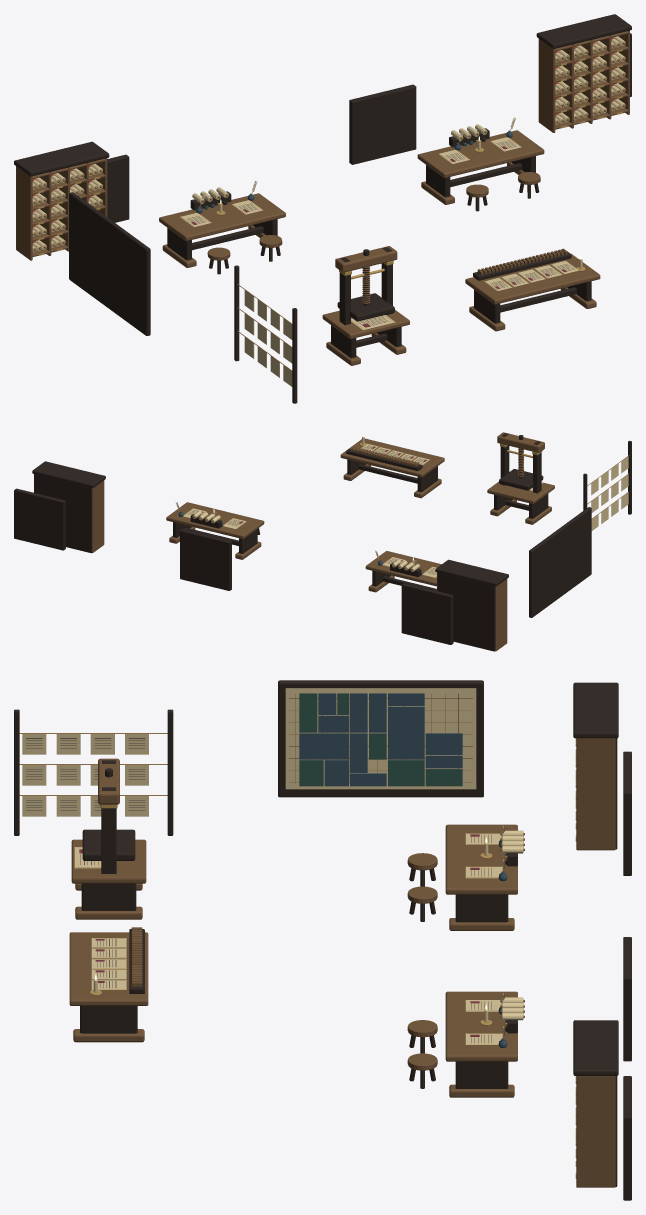
Rendered from scriptorium.glb.
3 views of the same model, one above another, from view 1: azimuth 30°, elevation 25°; view 2: azimuth 150°, elevation 25°; view 3: azimuth 270°, elevation 25° (orthographic). The views are drawn at different scales.
Parts seen in each view (by area): view 1: Crafted assembly 001, Crafted assembly 000, Crafted assembly 011, Crafted assembly 010, Crafted assembly 022, Crafted assembly 002, Crafted assembly 023, Crafted assembly 012, Crafted assembly 021, Crafted assembly 007, Crafted assembly 024; view 2: Crafted assembly 001, Crafted assembly 021, Crafted assembly 011, Crafted assembly 000, Crafted assembly 010, Crafted assembly 002, Crafted assembly 012, Crafted assembly 022; view 3: Crafted assembly 001, Crafted assembly 002, Crafted assembly 000, Crafted assembly 010, Crafted assembly 006, Crafted assembly 011, Crafted assembly 022, Crafted assembly 021, Crafted assembly 009, Crafted assembly 012, Crafted assembly 003.
Part boxes in pixels (x1,y1,x2,y2): Crafted assembly 001: (14, 141, 401, 403); Crafted assembly 000: (16, 158, 409, 365); Crafted assembly 011: (349, 84, 591, 323); Crafted assembly 010: (417, 130, 600, 331); Crafted assembly 022: (538, 30, 629, 132); Crafted assembly 002: (32, 164, 395, 386); Crafted assembly 023: (555, 36, 625, 124); Crafted assembly 012: (439, 117, 582, 291); Crafted assembly 021: (536, 14, 631, 96); Crafted assembly 007: (32, 169, 292, 370); Crafted assembly 024: (555, 41, 625, 124); Crafted assembly 001: (372, 433, 631, 651); Crafted assembly 021: (14, 461, 105, 553); Crafted assembly 011: (173, 449, 437, 590); Crafted assembly 000: (365, 432, 554, 651); Crafted assembly 010: (166, 438, 444, 559); Crafted assembly 002: (375, 456, 628, 577); Crafted assembly 012: (176, 436, 429, 529); Crafted assembly 022: (34, 474, 104, 552); Crafted assembly 001: (14, 680, 631, 922); Crafted assembly 002: (22, 688, 523, 878); Crafted assembly 000: (71, 694, 615, 930); Crafted assembly 010: (69, 927, 524, 1097); Crafted assembly 006: (299, 693, 507, 881); Crafted assembly 011: (80, 929, 631, 1088); Crafted assembly 022: (576, 1076, 615, 1187); Crafted assembly 021: (573, 1020, 631, 1200); Crafted assembly 009: (299, 693, 462, 786); Crafted assembly 012: (91, 938, 523, 1045); Crafted assembly 003: (26, 738, 507, 876).
Size of what is drawn, in the model's own units: 21.6 by 3.37 by 14.09.
